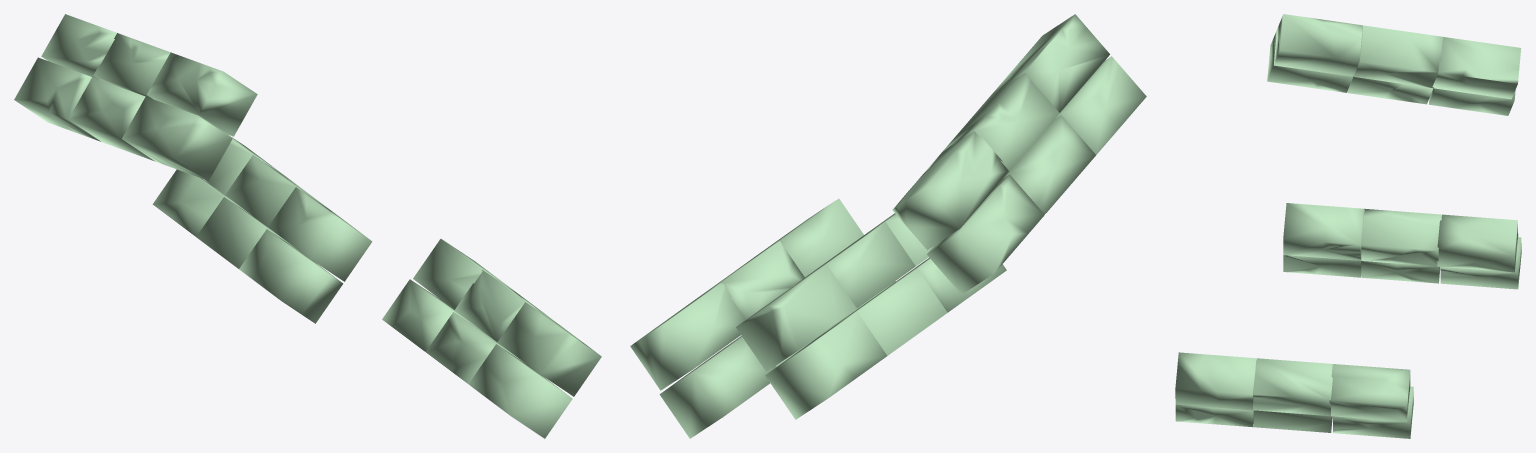
File: VHF_Spleen_Extraction_Sites_2x3.glb
The picture shows the model from 3 angles, left to right: view 1: azimuth 30°, elevation 25°; view 2: azimuth 150°, elevation 25°; view 3: azimuth 270°, elevation 25°; orthographic projection. The views are drawn at different scales.
Visible parts, largest first — view 1: VHF_CC1_4_2x3, VHF_CC1_1_2x3, VHF_CC2_1_2x3, VHF_CC3_1_2x3, VHF_CC2_4_2x3, VHF_CC3_4_2x3, VHF_CC1_6_2x3, VHF_CC1_5_2x3, VHF_CC1_2_2x3, VHF_CC1_3_2x3, VHF_CC3_6_2x3, VHF_CC2_2_2x3 (+6 smaller); view 2: VHF_CC1_3_2x3, VHF_CC1_6_2x3, VHF_CC2_6_2x3, VHF_CC2_3_2x3, VHF_CC3_3_2x3, VHF_CC3_6_2x3, VHF_CC1_1_2x3, VHF_CC1_2_2x3, VHF_CC1_5_2x3, VHF_CC1_4_2x3, VHF_CC2_5_2x3, VHF_CC2_2_2x3 (+4 smaller); view 3: VHF_CC1_1_2x3, VHF_CC1_2_2x3, VHF_CC1_3_2x3, VHF_CC2_3_2x3, VHF_CC3_1_2x3, VHF_CC2_1_2x3, VHF_CC3_3_2x3, VHF_CC3_2_2x3, VHF_CC2_2_2x3, VHF_CC1_4_2x3, VHF_CC2_6_2x3, VHF_CC3_6_2x3 (+6 smaller).
Part boxes in pixels (box(x1,y1,x2,y2)): VHF_CC1_4_2x3: box(122, 97, 232, 180); VHF_CC1_1_2x3: box(147, 52, 257, 136); VHF_CC2_1_2x3: box(268, 187, 372, 281); VHF_CC3_1_2x3: box(497, 302, 601, 396); VHF_CC2_4_2x3: box(239, 229, 343, 323); VHF_CC3_4_2x3: box(468, 344, 572, 438); VHF_CC1_6_2x3: box(14, 57, 100, 141); VHF_CC1_5_2x3: box(68, 77, 154, 161); VHF_CC1_2_2x3: box(93, 33, 170, 98); VHF_CC1_3_2x3: box(41, 14, 116, 79); VHF_CC3_6_2x3: box(382, 279, 481, 351); VHF_CC2_2_2x3: box(225, 155, 326, 226); VHF_CC1_3_2x3: box(892, 131, 1009, 250); VHF_CC1_6_2x3: box(927, 174, 1044, 294); VHF_CC2_6_2x3: box(765, 311, 886, 419); VHF_CC2_3_2x3: box(736, 264, 856, 371); VHF_CC3_3_2x3: box(630, 283, 745, 390); VHF_CC3_6_2x3: box(659, 337, 776, 438); VHF_CC1_1_2x3: box(992, 14, 1109, 112); VHF_CC1_2_2x3: box(943, 73, 1059, 170); VHF_CC1_5_2x3: box(1004, 115, 1095, 214); VHF_CC1_4_2x3: box(1055, 56, 1146, 154); VHF_CC2_5_2x3: box(826, 268, 947, 355); VHF_CC2_2_2x3: box(798, 222, 915, 308); VHF_CC1_1_2x3: box(1273, 14, 1362, 76); VHF_CC1_2_2x3: box(1354, 25, 1442, 88); VHF_CC1_3_2x3: box(1432, 37, 1521, 99); VHF_CC2_3_2x3: box(1437, 214, 1518, 272); VHF_CC3_1_2x3: box(1175, 352, 1256, 410); VHF_CC2_1_2x3: box(1283, 203, 1363, 260); VHF_CC3_3_2x3: box(1329, 364, 1410, 421); VHF_CC3_2_2x3: box(1253, 358, 1332, 416); VHF_CC2_2_2x3: box(1361, 208, 1441, 266); VHF_CC1_4_2x3: box(1267, 30, 1352, 92); VHF_CC2_6_2x3: box(1440, 237, 1521, 289); VHF_CC3_6_2x3: box(1333, 386, 1413, 438).
Size of the model in its own units: 0.66 by 0.6282 by 0.6193.
